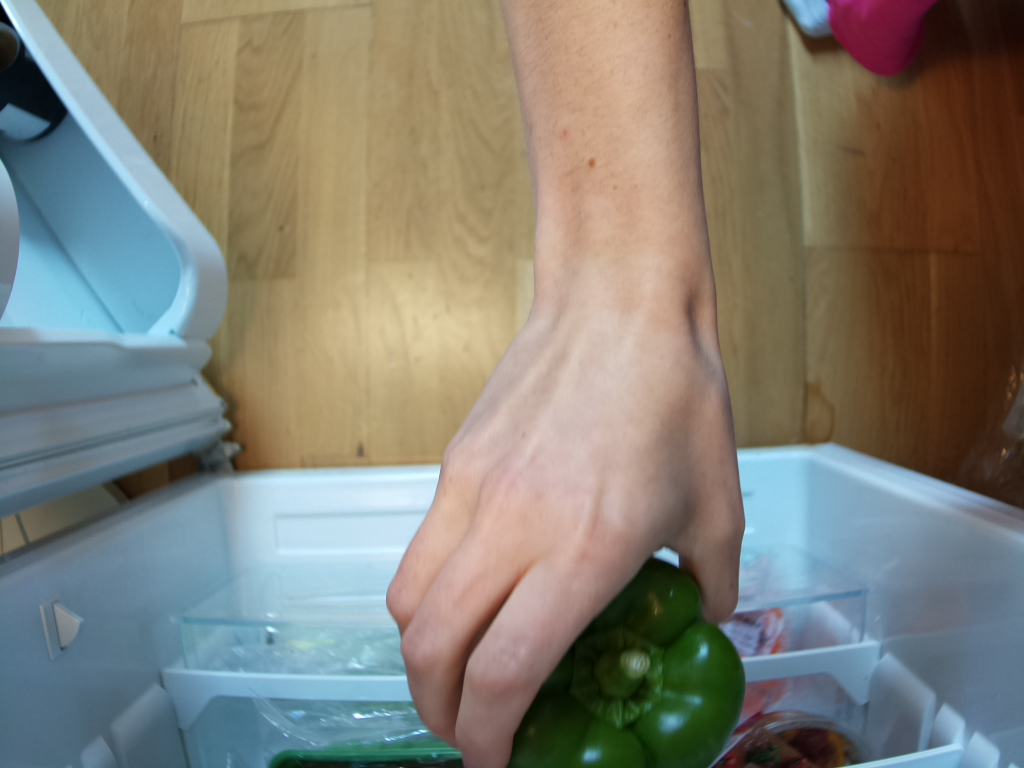pepper: (500, 549, 751, 768)
